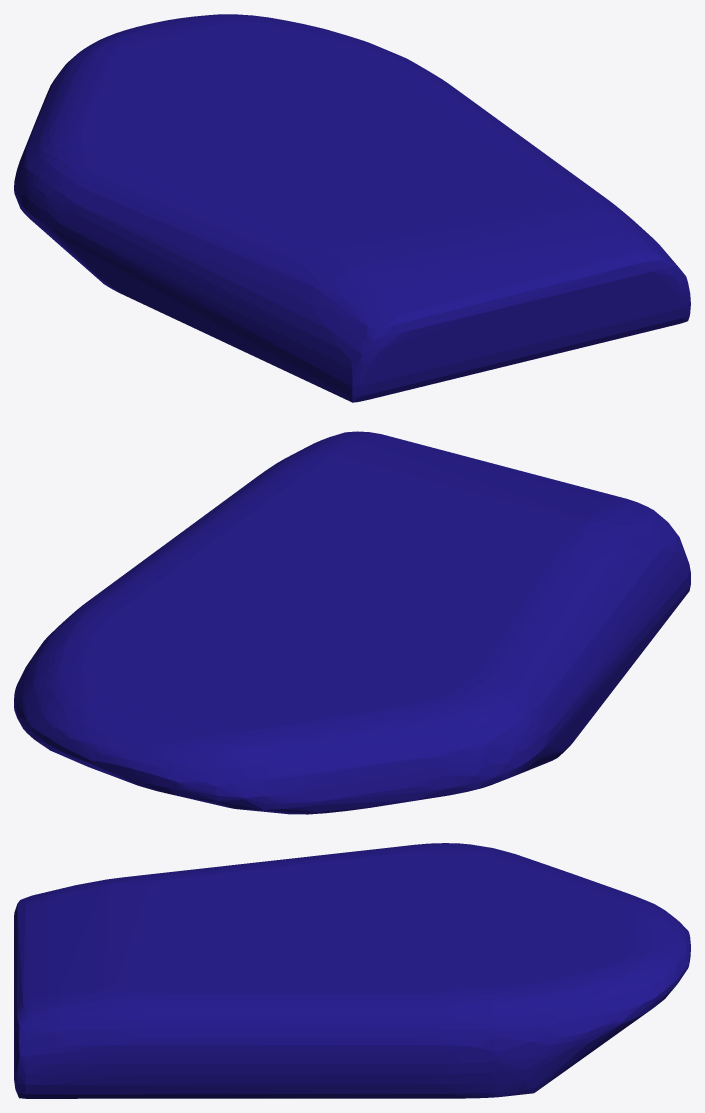
Rendered from left_hip_pitch_link_part_20.obj.
The picture shows the model from 3 angles, top to bottom: view 1: azimuth 30°, elevation 25°; view 2: azimuth 150°, elevation 25°; view 3: azimuth 270°, elevation 25°; orthographic projection. The views are drawn at different scales.
Bounding box in the file's own units: 0.0871 × 0.0179 × 0.1285.
